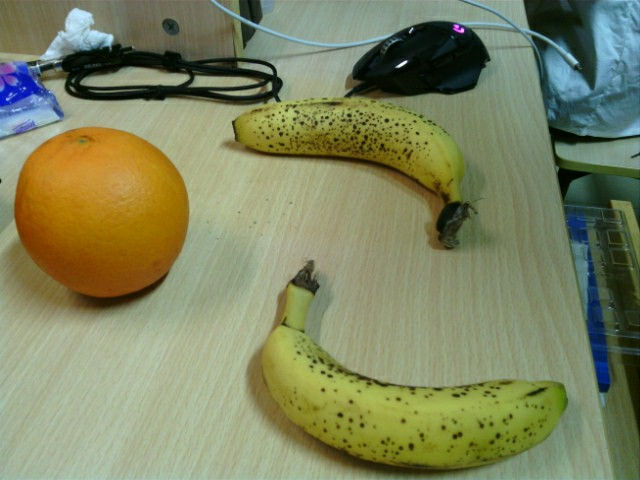normal_banana: (260, 260, 571, 467), (234, 97, 473, 252)
normal_orange: (15, 128, 189, 297)
